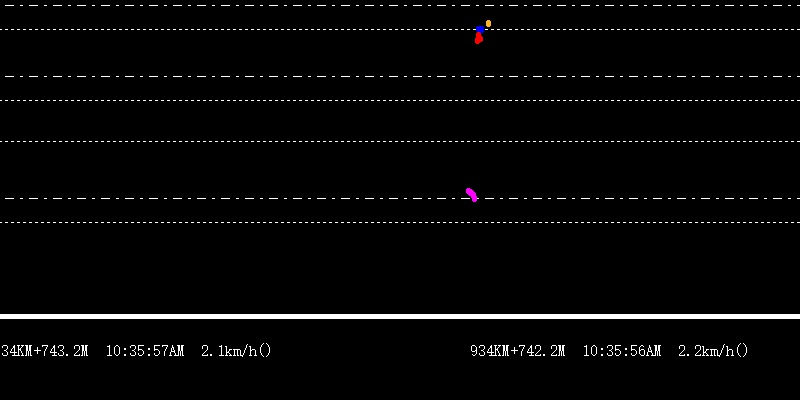face_up: (483, 17, 492, 32)
